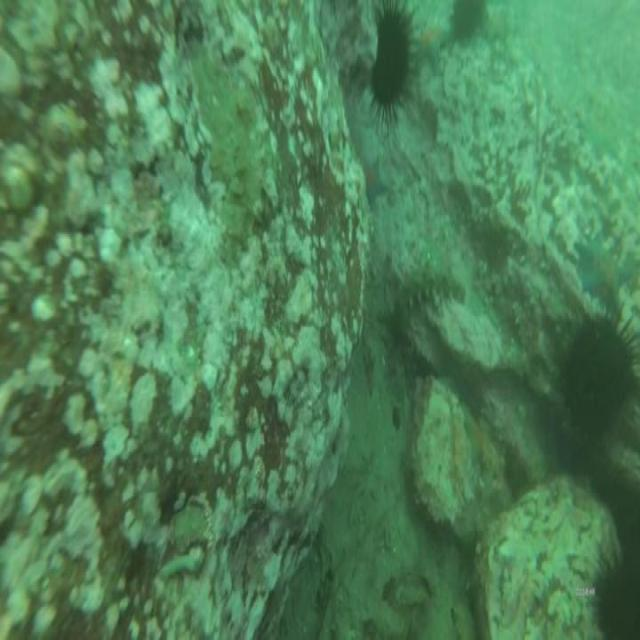echinus: (569, 318, 632, 444), (596, 542, 640, 640), (373, 7, 410, 108), (454, 4, 484, 36)
holothurian: (399, 262, 465, 310)
starfish: (572, 237, 628, 305), (414, 22, 450, 71), (363, 152, 391, 205)
